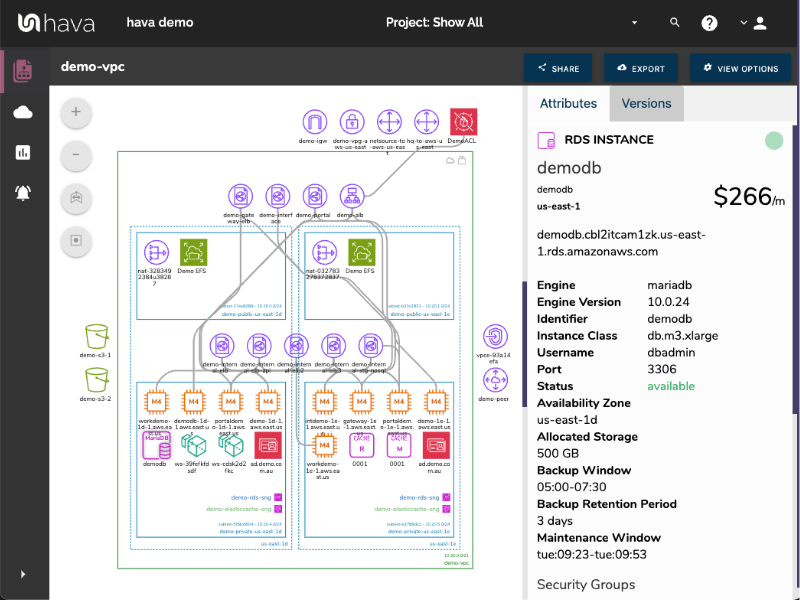ec2: (423, 390, 451, 419), (348, 389, 376, 417), (143, 388, 170, 416), (180, 389, 207, 416), (386, 390, 413, 417), (217, 389, 245, 415), (312, 389, 338, 417), (311, 433, 338, 459), (256, 390, 281, 415)
efs: (350, 241, 374, 267), (182, 240, 206, 265)
iam: (422, 432, 450, 460), (256, 434, 280, 457)
rds: (534, 127, 558, 154)
s3: (81, 364, 112, 395), (81, 321, 111, 350)
vpc endpoints: (480, 320, 511, 350)
waf: (451, 110, 477, 135)
